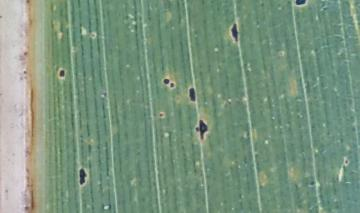tarspot: (196, 119, 208, 140), (229, 22, 239, 43), (78, 167, 87, 186), (188, 87, 196, 102), (294, 1, 307, 6), (163, 77, 170, 84), (158, 111, 165, 118), (59, 70, 65, 78), (308, 180, 316, 186), (169, 82, 176, 88), (344, 158, 348, 165), (25, 1, 31, 4)
